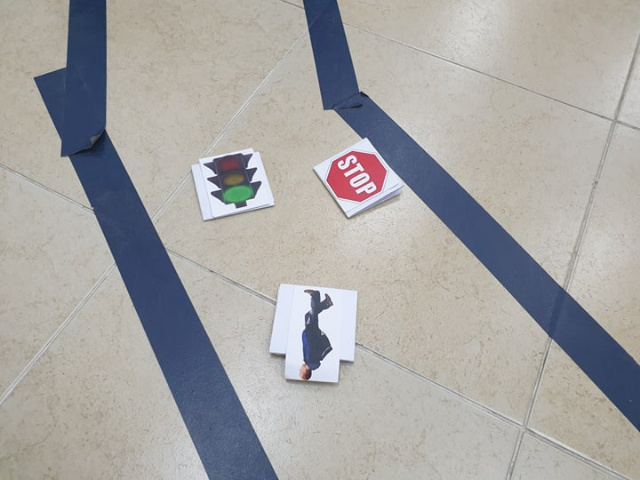Green: (205, 153, 260, 207)
Person: (292, 286, 335, 382)
Stop: (327, 151, 386, 201)
